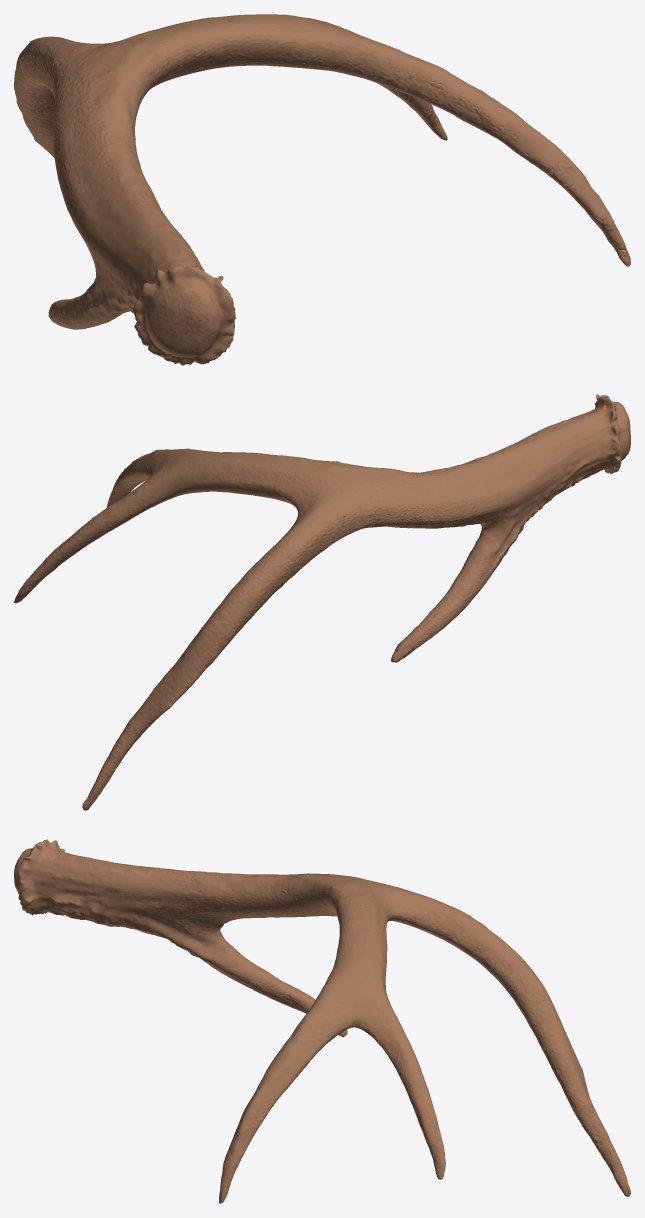
Rendered from king-web.glb.
The picture shows the model from 3 angles, top to bottom: view 1: azimuth 30°, elevation 25°; view 2: azimuth 150°, elevation 25°; view 3: azimuth 270°, elevation 25°; orthographic projection. The views are drawn at different scales.
Parts seen in each view (by area): view 1: The_King_-_Right; view 2: The_King_-_Right; view 3: The_King_-_Right.
Part boxes in pixels (x1,y1,x2,y2): The_King_-_Right: (14,14,630,365); The_King_-_Right: (14,394,630,810); The_King_-_Right: (14,839,630,1203).
Bounding box in the file's own units: 0.2625 × 0.153 × 0.3254.
